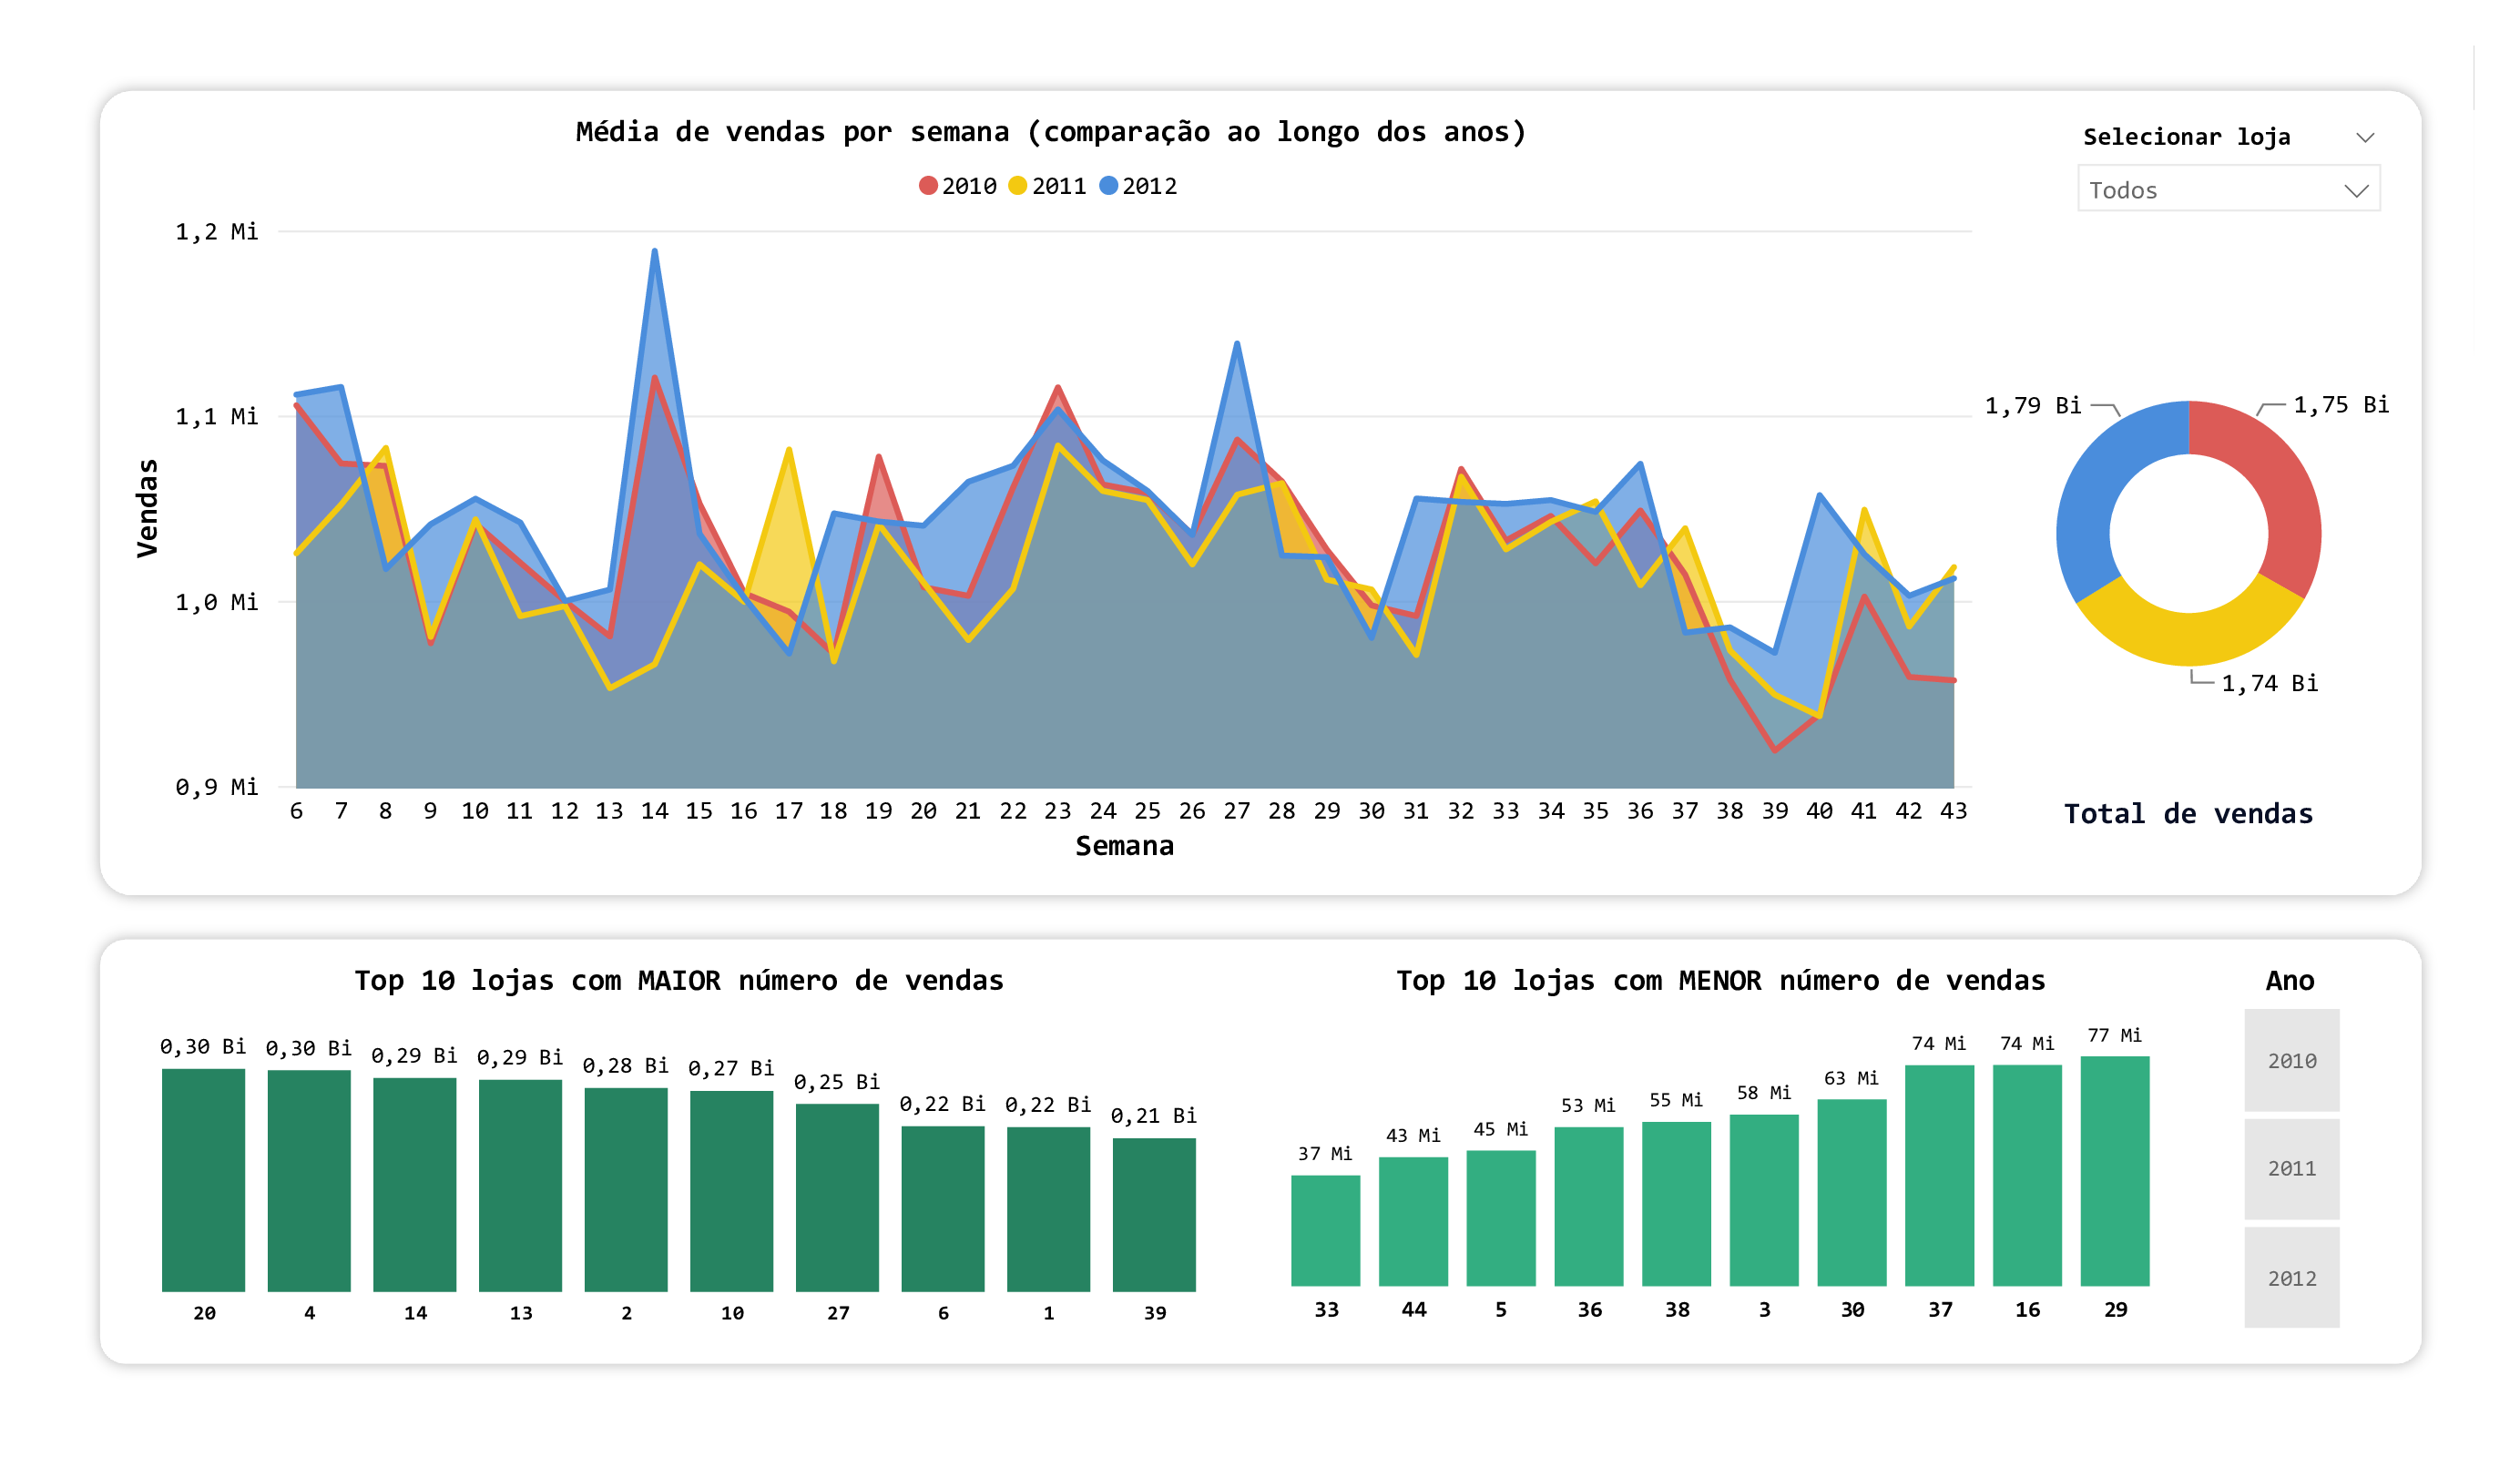

The dashboard page shown, as its layout file describes it:
{"tool":"powerbi","page":{"name":"dashboard","canvas":[1280,720],"ordinal":0},"visuals":[{"type":"shape","box":[20.2,15.9,1239.5,440.1],"z":0},{"type":"shape","box":[20.2,463.1,1239.5,239.6],"z":0},{"type":"areaChart","title":"Média de vendas por semana (comparação ao longo dos anos)","fields":{"Series":["Walmart_sales.Date.Variation.Hierarquia de datas.Ano"],"Y":["Avg(Walmart_sales.Weekly_Sales)"],"Category":["Walmart_sales.Week"]},"box":[39.8,35.4,980,400],"z":1000},{"type":"clusteredColumnChart","title":"Top 10 lojas com MAIOR número de vendas","fields":{"Category":["Walmart_sales.Store"],"Y":["Sum(Walmart_sales.Weekly_Sales)"]},"box":[33.7,482.6,600.2,200.5],"z":1000},{"type":"slicer","fields":{"Values":["Walmart_sales.Store"]},"box":[1060.5,35.4,179.7,59.9],"z":2000},{"type":"clusteredColumnChart","title":"Top 10 lojas com MENOR número de vendas","fields":{"Category":["Walmart_sales.Store"],"Y":["Sum(Walmart_sales.Weekly_Sales)"]},"box":[632.7,482.6,500,200.5],"z":2000},{"type":"slicer","title":"Ano","fields":{"Values":["Walmart_sales.Date.Variation.Hierarquia de datas.Ano"]},"box":[1132.6,482.6,100.2,200.5],"z":3000},{"type":"donutChart","fields":{"Category":["Walmart_sales.Date.Variation.Hierarquia de datas.Ano"],"Y":["Sum(Walmart_sales.Weekly_Sales)"]},"box":[1009.2,124.2,240,265.2],"z":4000},{"type":"textbox","box":[1009.2,389.4,240.1,32.1],"z":5000}]}

Visuals, with their boxes on the page's 1280x720 design canvas (x1, y1, x2, y2). These are canvas units, not pixel positions in the 2520x1457 screenshot, which may show the page scaled, cropped or inside an application window:
shape: <region>20, 16, 1260, 456</region>
shape: <region>20, 463, 1260, 703</region>
"Média de vendas por semana (comparação ao longo dos anos)" areaChart: <region>40, 35, 1020, 435</region>
"Top 10 lojas com MAIOR número de vendas" clusteredColumnChart: <region>34, 483, 634, 683</region>
slicer - Walmart_sales.Store: <region>1060, 35, 1240, 95</region>
"Top 10 lojas com MENOR número de vendas" clusteredColumnChart: <region>633, 483, 1133, 683</region>
"Ano" slicer: <region>1133, 483, 1233, 683</region>
donutChart - Walmart_sales.Date.Variation.Hierarquia de datas.Ano x Sum(Walmart_sales.Weekly_Sales): <region>1009, 124, 1249, 389</region>
textbox: <region>1009, 389, 1249, 422</region>
